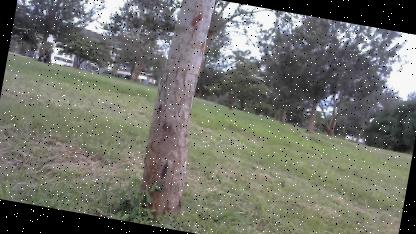tree: (130, 0, 225, 224)
